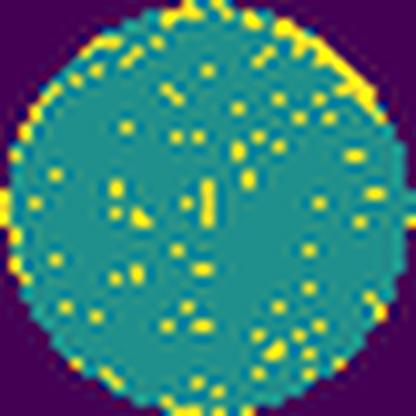Edge-Loc: (274, 18, 388, 127)
